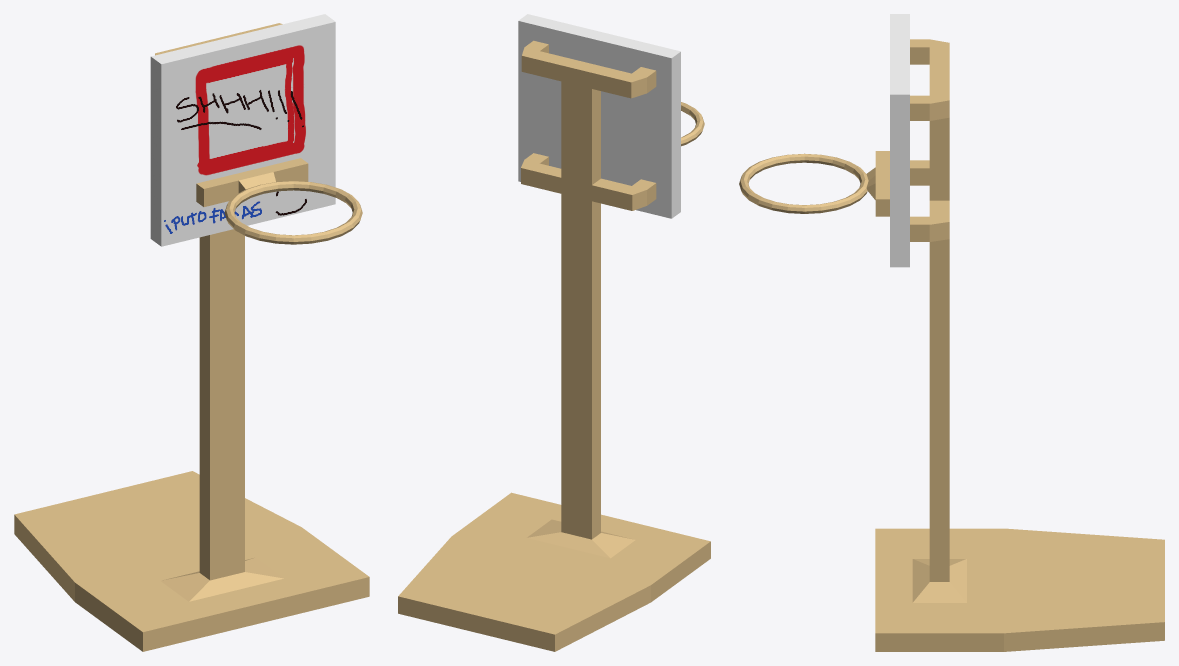
File: CANASTA.glb
3 views of the same model, side by side, from view 1: azimuth 30°, elevation 25°; view 2: azimuth 150°, elevation 25°; view 3: azimuth 270°, elevation 25° (orthographic). The views are drawn at different scales.
Visible parts, largest first — view 1: Cube; view 2: Cube; view 3: Cube.
Part boxes in pixels (bbox=[...]): Cube: bbox=[14, 14, 369, 651]; Cube: bbox=[398, 14, 710, 651]; Cube: bbox=[739, 14, 1164, 651].
Bounding box in the file's own units: 5.23 × 12.68 × 8.97.
Materials: 2 (1 with a texture image).
